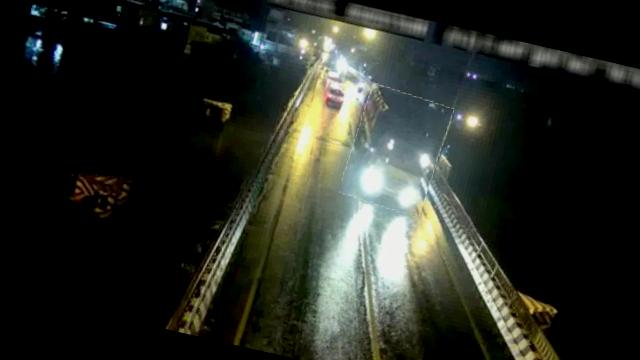Truck: (339, 84, 452, 218)
